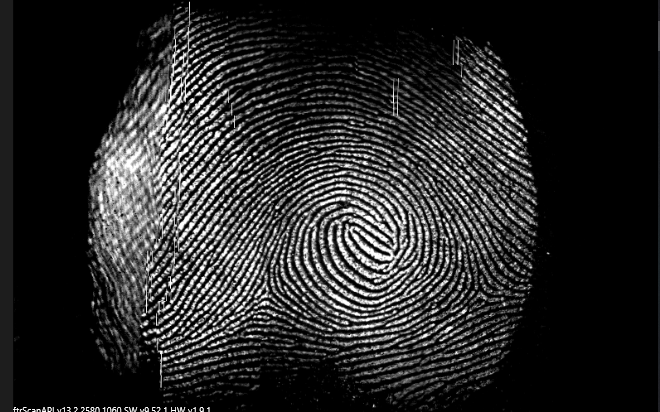deltas: (243, 258, 292, 319), (454, 257, 500, 309)
nucleo: (323, 200, 408, 273)
